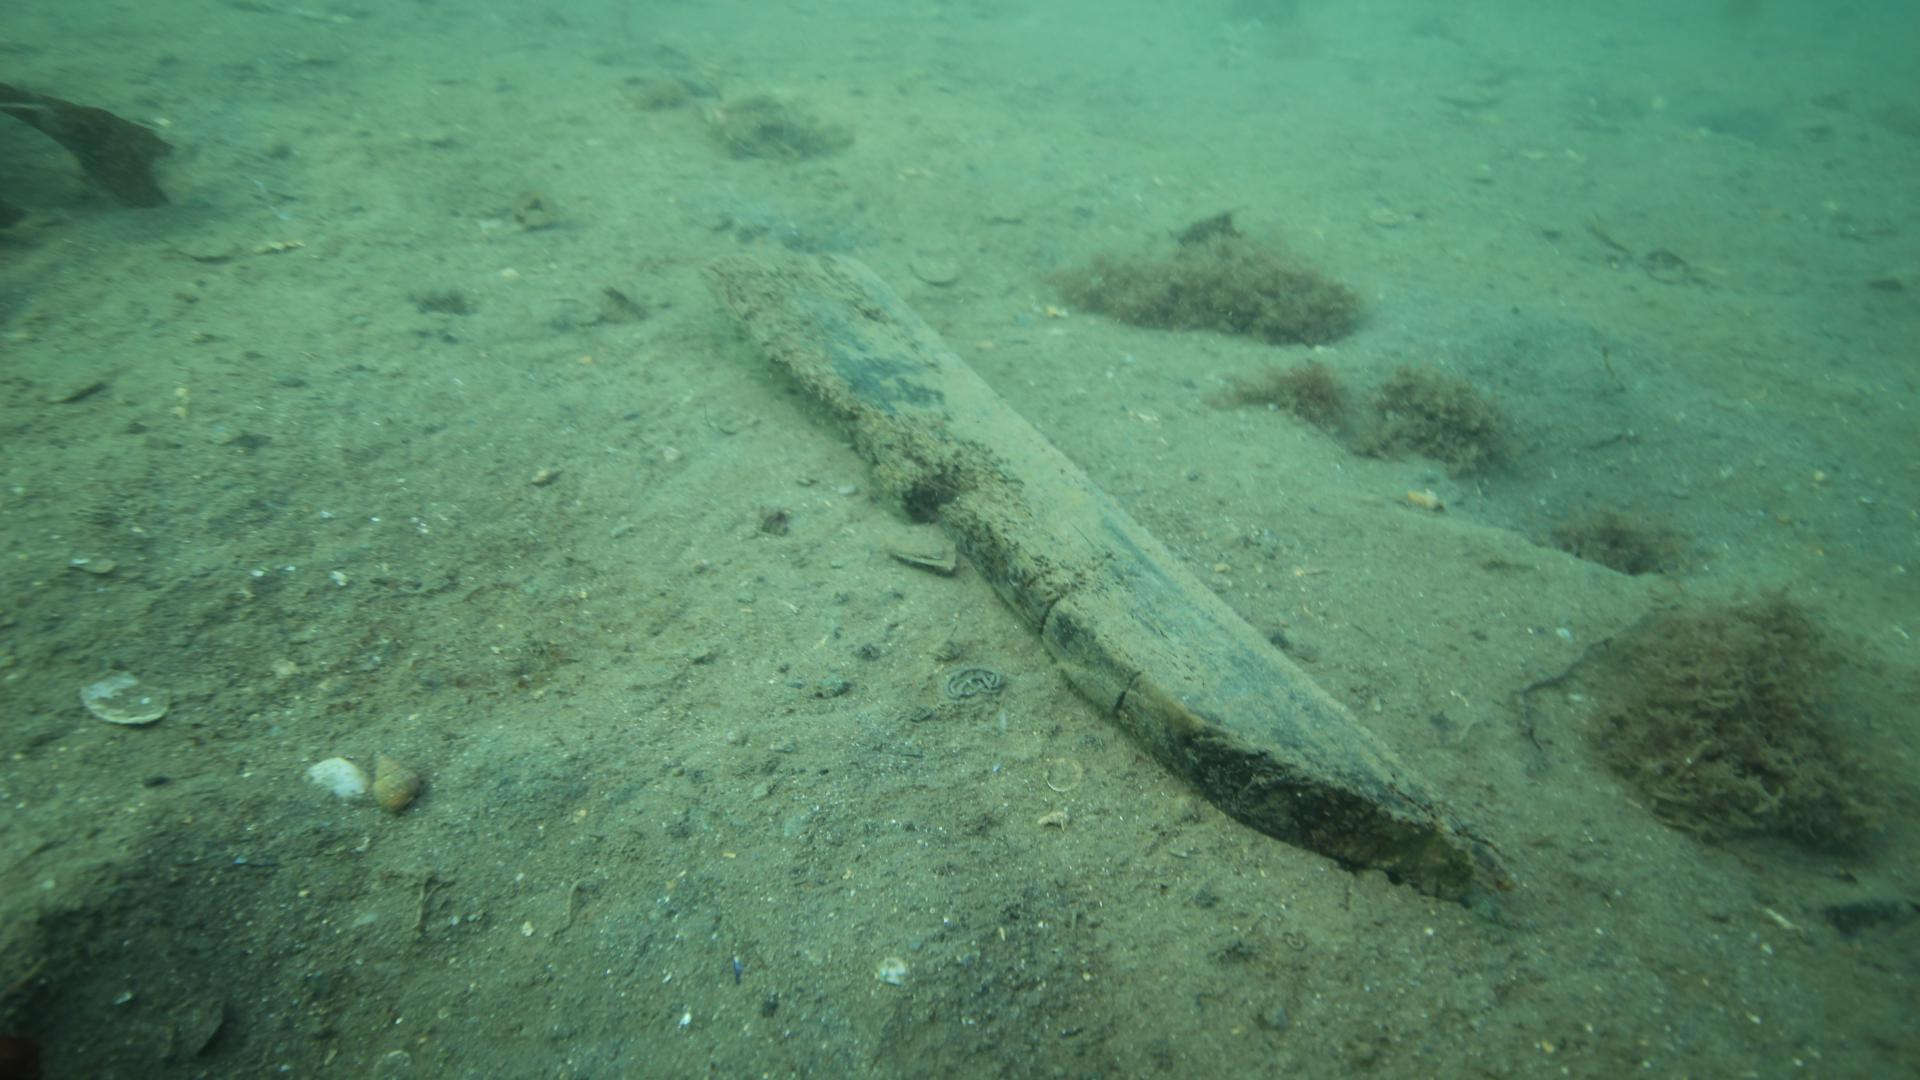wood: (699, 252, 1516, 920)
